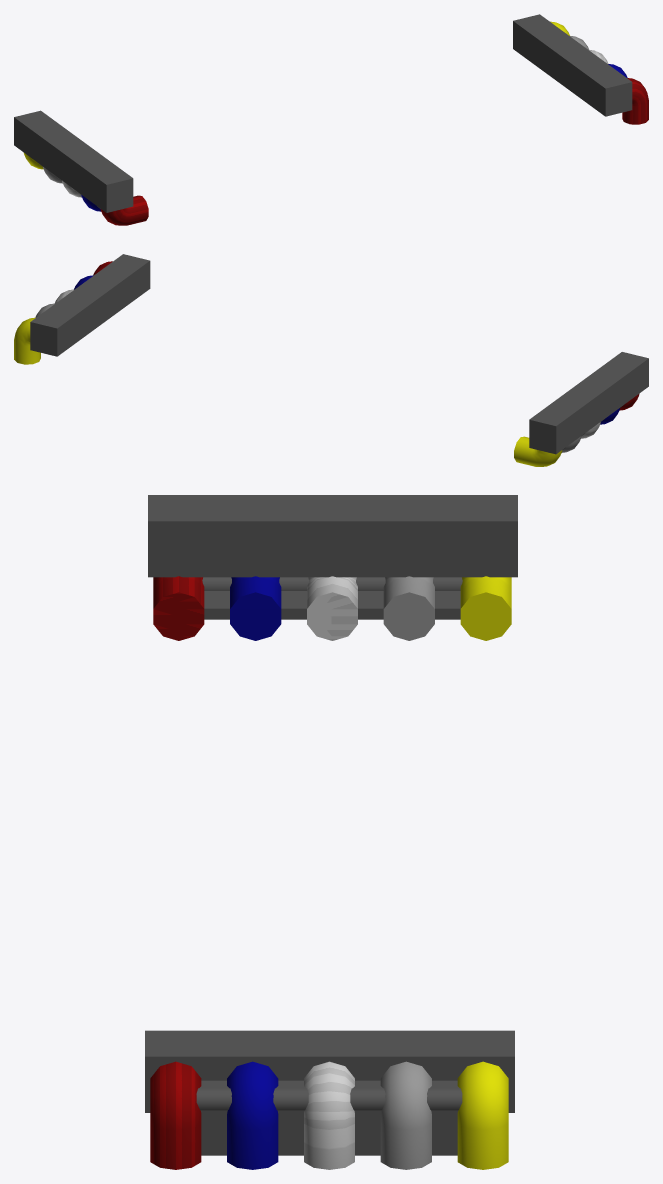
File: CABLES RGB CURVED WITH CONNECTOR.fbx
3 views of the same model, one above another, from view 1: azimuth 30°, elevation 25°; view 2: azimuth 150°, elevation 25°; view 3: azimuth 270°, elevation 25° (orthographic). The views are drawn at different scales.
Parts seen in each view (by area): view 1: shoyos_cables2.001, shoyos_cables2; view 2: shoyos_cables2.001, shoyos_cables2; view 3: shoyos_cables2.001, shoyos_cables2.
Part boxes in pixels (bbox=[...]): shoyos_cables2.001: bbox=[14, 110, 148, 225]; shoyos_cables2: bbox=[513, 14, 648, 124]; shoyos_cables2.001: bbox=[514, 352, 648, 466]; shoyos_cables2: bbox=[14, 254, 150, 364]; shoyos_cables2.001: bbox=[148, 495, 517, 640]; shoyos_cables2: bbox=[145, 1030, 514, 1169].
Size of the model in its own units: 470 by 57.55 by 139.
